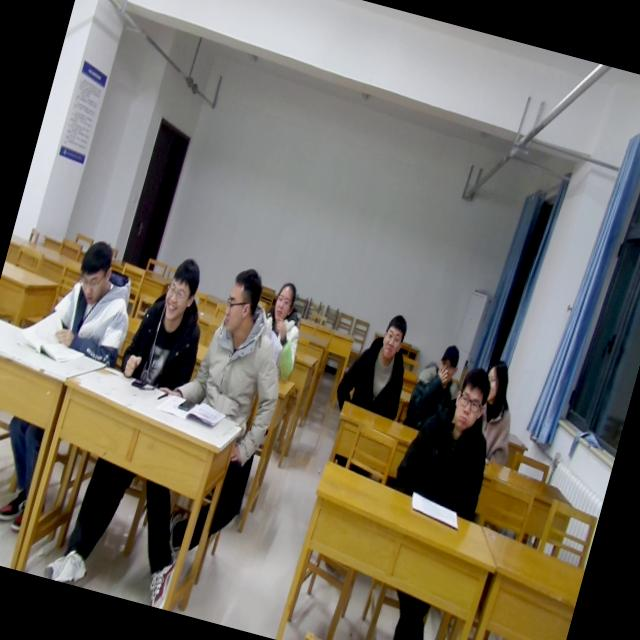down: (66, 232, 122, 312)
lookup: (444, 361, 494, 439), (157, 249, 208, 325), (374, 308, 416, 366), (265, 272, 305, 329), (429, 338, 465, 390)
sit: (170, 255, 310, 432), (387, 352, 515, 523), (114, 248, 222, 402), (40, 232, 149, 366), (330, 303, 423, 423), (464, 354, 532, 468), (399, 336, 471, 440), (248, 276, 316, 382)
